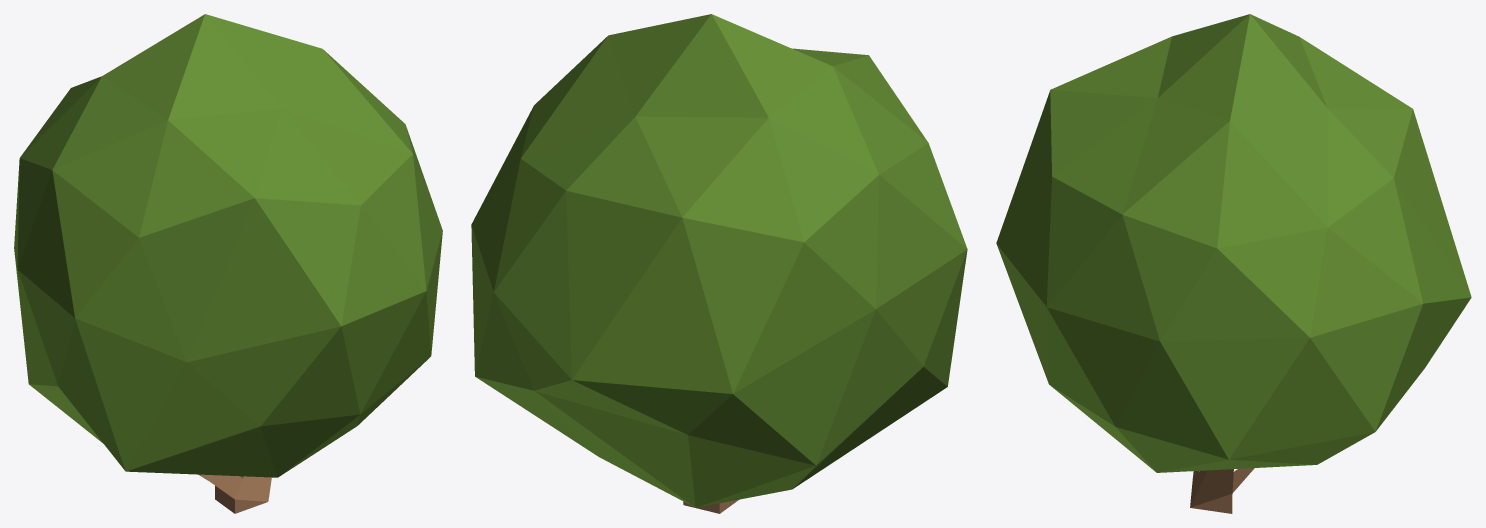
The model's file is tree4.fbx.
3 renders of one model, left to right at view 1: azimuth 30°, elevation 25°; view 2: azimuth 150°, elevation 25°; view 3: azimuth 270°, elevation 25°, orthographic. The views are drawn at different scales.
Visible parts, largest first — view 1: Cube.002; view 2: Cube.002; view 3: Cube.002.
Part boxes in pixels (x1=…): Cube.002: x1=14, y1=14, x2=442, y2=513; Cube.002: x1=471, y1=14, x2=967, y2=513; Cube.002: x1=996, y1=14, x2=1471, y2=513.
Bounding box in the file's own units: 201 × 235 × 210.
